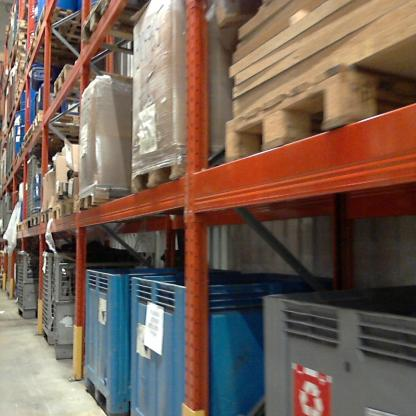pallet: (220, 58, 413, 180), (127, 150, 238, 205), (48, 60, 146, 109), (79, 1, 153, 65), (79, 187, 170, 232), (34, 4, 96, 50), (32, 108, 89, 143), (23, 41, 86, 69), (61, 195, 86, 223), (50, 199, 64, 224), (41, 209, 55, 228), (30, 213, 42, 229), (15, 40, 30, 52), (15, 29, 30, 40), (13, 221, 23, 234)
stillage: (50, 253, 159, 368), (15, 249, 47, 324), (41, 250, 61, 347), (6, 127, 24, 183), (25, 156, 38, 228), (2, 190, 21, 233), (2, 132, 11, 184)
